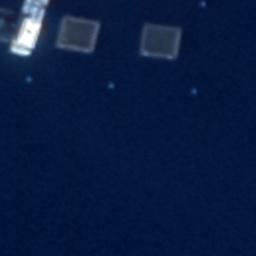square_cover: (137, 20, 186, 63), (55, 13, 104, 55)
